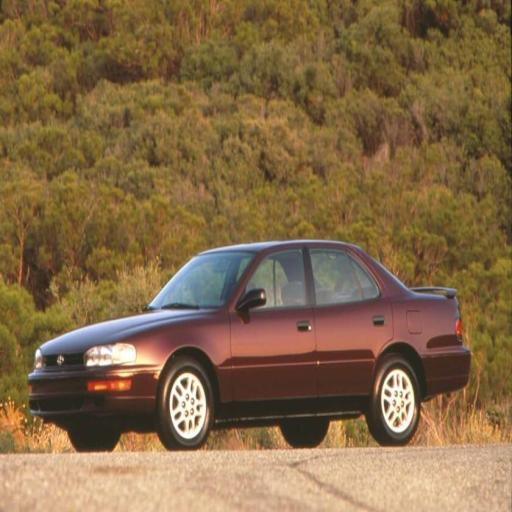bottle: (14, 215, 483, 462)
